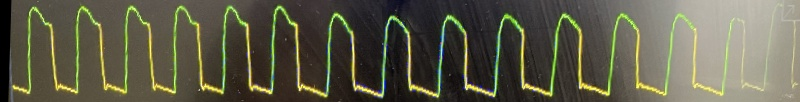normal_pressure: (3, 0, 775, 102)
